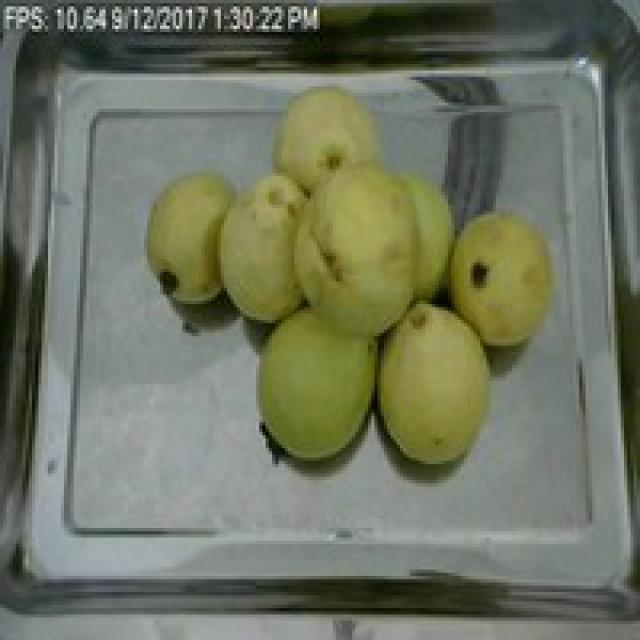Fruit: (205, 74, 470, 346), (365, 291, 502, 474), (246, 298, 384, 467), (435, 195, 573, 358)
